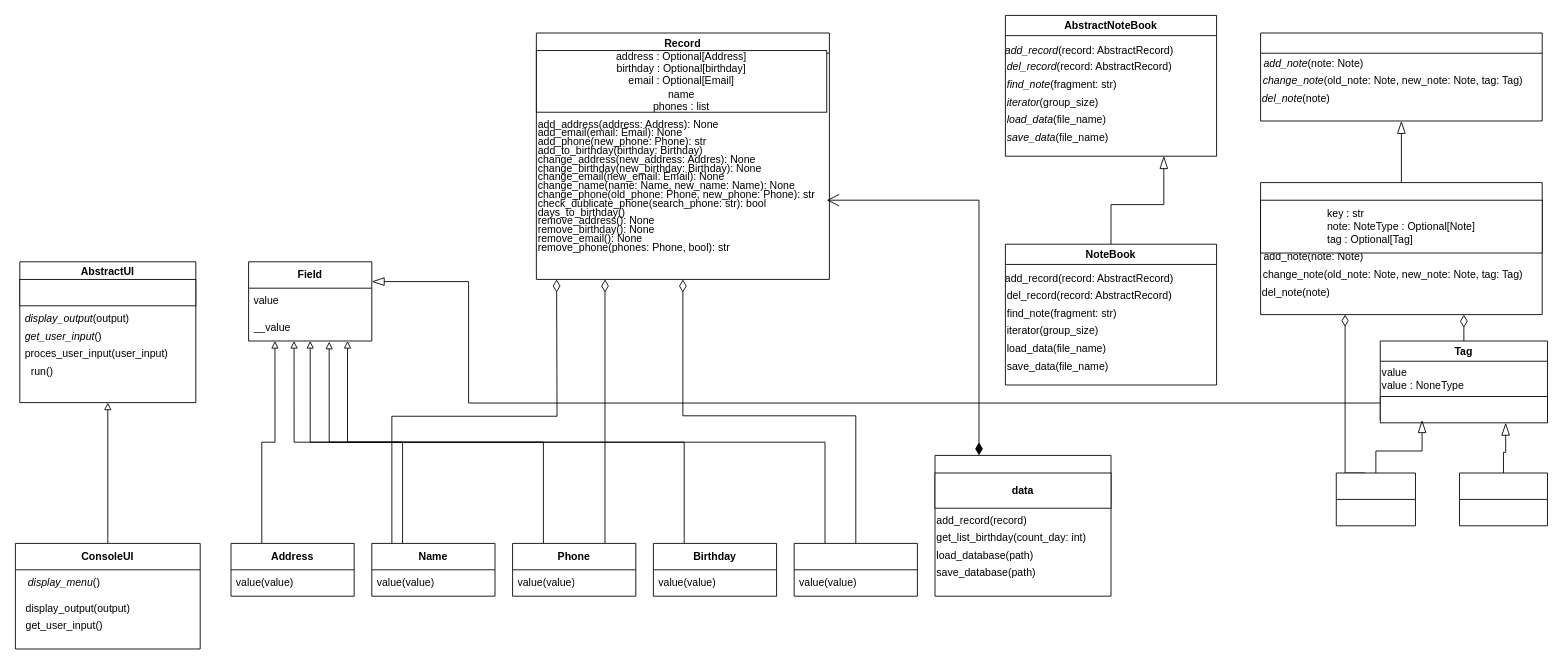
This 1563x664 diagram has some shape labels left out. Here are the shapes that lost their labels. From the top down, the box of each, then its label:
(1260, 32, 1542, 121): AbstractRecord
(1260, 182, 1542, 315): NoteRecord
(19, 279, 196, 306): book
(1335, 472, 1415, 526): Note
(1459, 472, 1547, 526): Key
(934, 455, 1111, 596): AddressBook
(793, 543, 917, 596): Email
